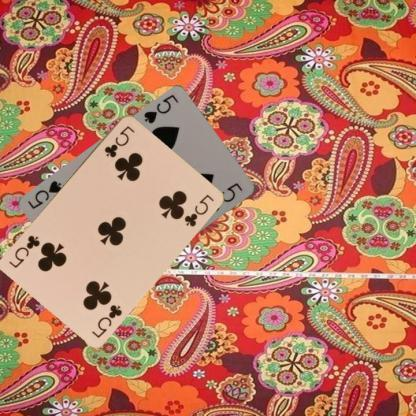5c: (90, 302, 124, 340), (101, 122, 136, 158)
5s: (142, 92, 180, 125)
